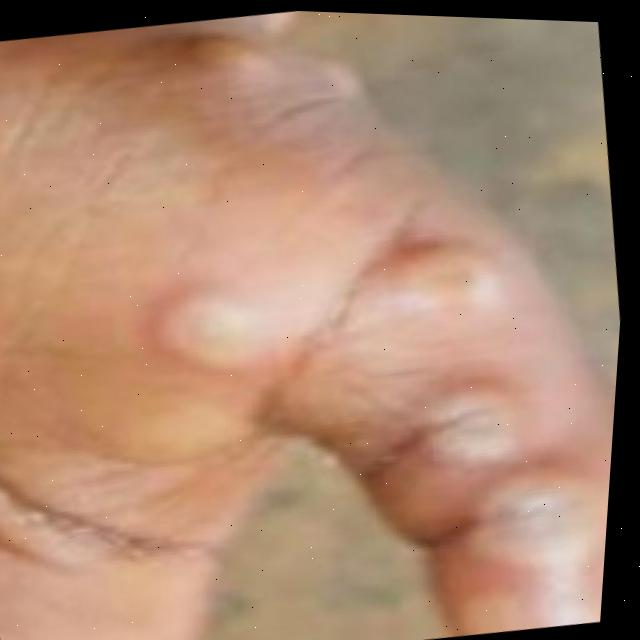Eczema: (307, 198, 616, 640), (156, 248, 307, 376), (192, 19, 249, 103)
